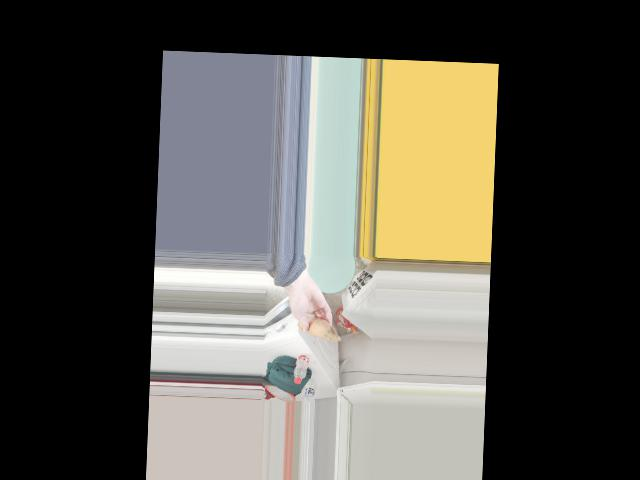sweet_potato: (301, 318, 329, 338)
